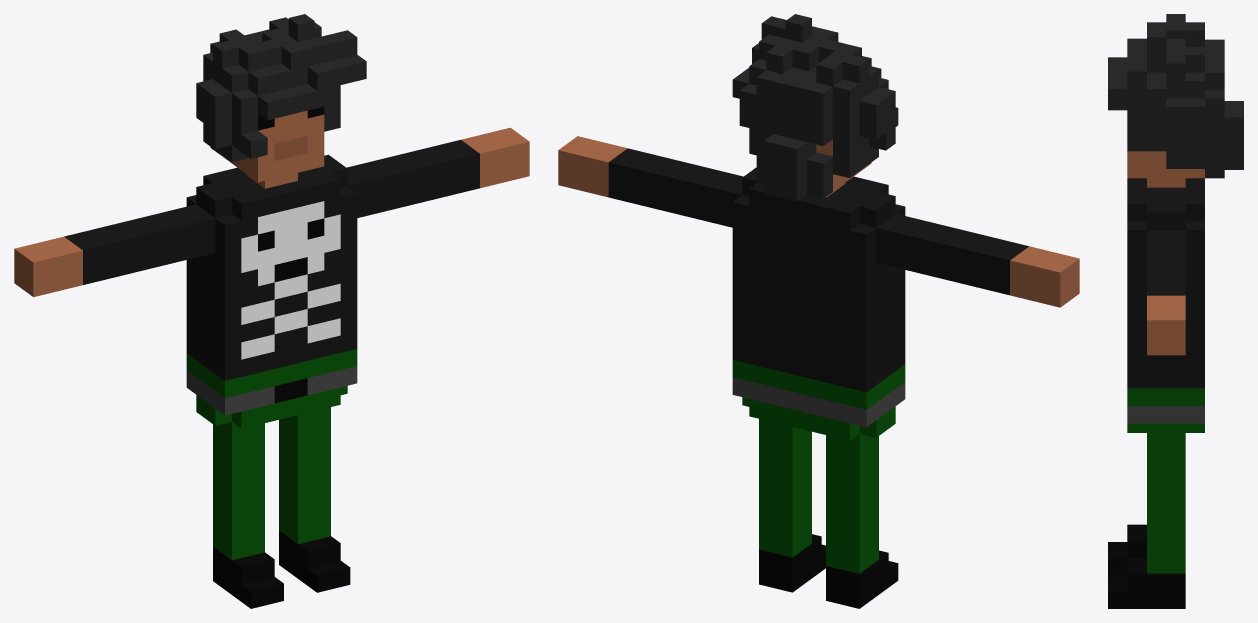
File: Character.obj
3 views of the same model, side by side, from view 1: azimuth 30°, elevation 25°; view 2: azimuth 150°, elevation 25°; view 3: azimuth 270°, elevation 25° (orthographic).
Visible parts, largest first — view 1: Character; view 2: Character; view 3: Character.
Boxes of the visible parts, <box> form: Character: <box>14,14,529,608</box>; Character: <box>558,14,1079,608</box>; Character: <box>1108,14,1243,608</box>.
Size of the model in its own units: 30 by 32 by 7.
1 material, 1 textured.
